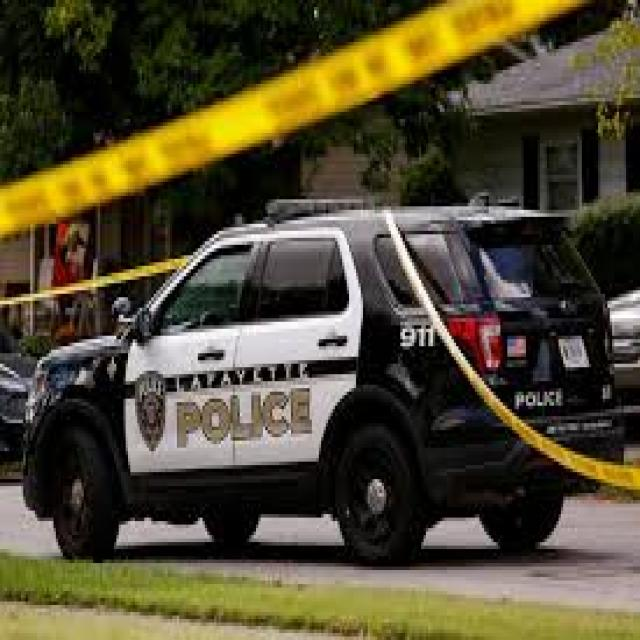cop: (18, 207, 615, 558)
